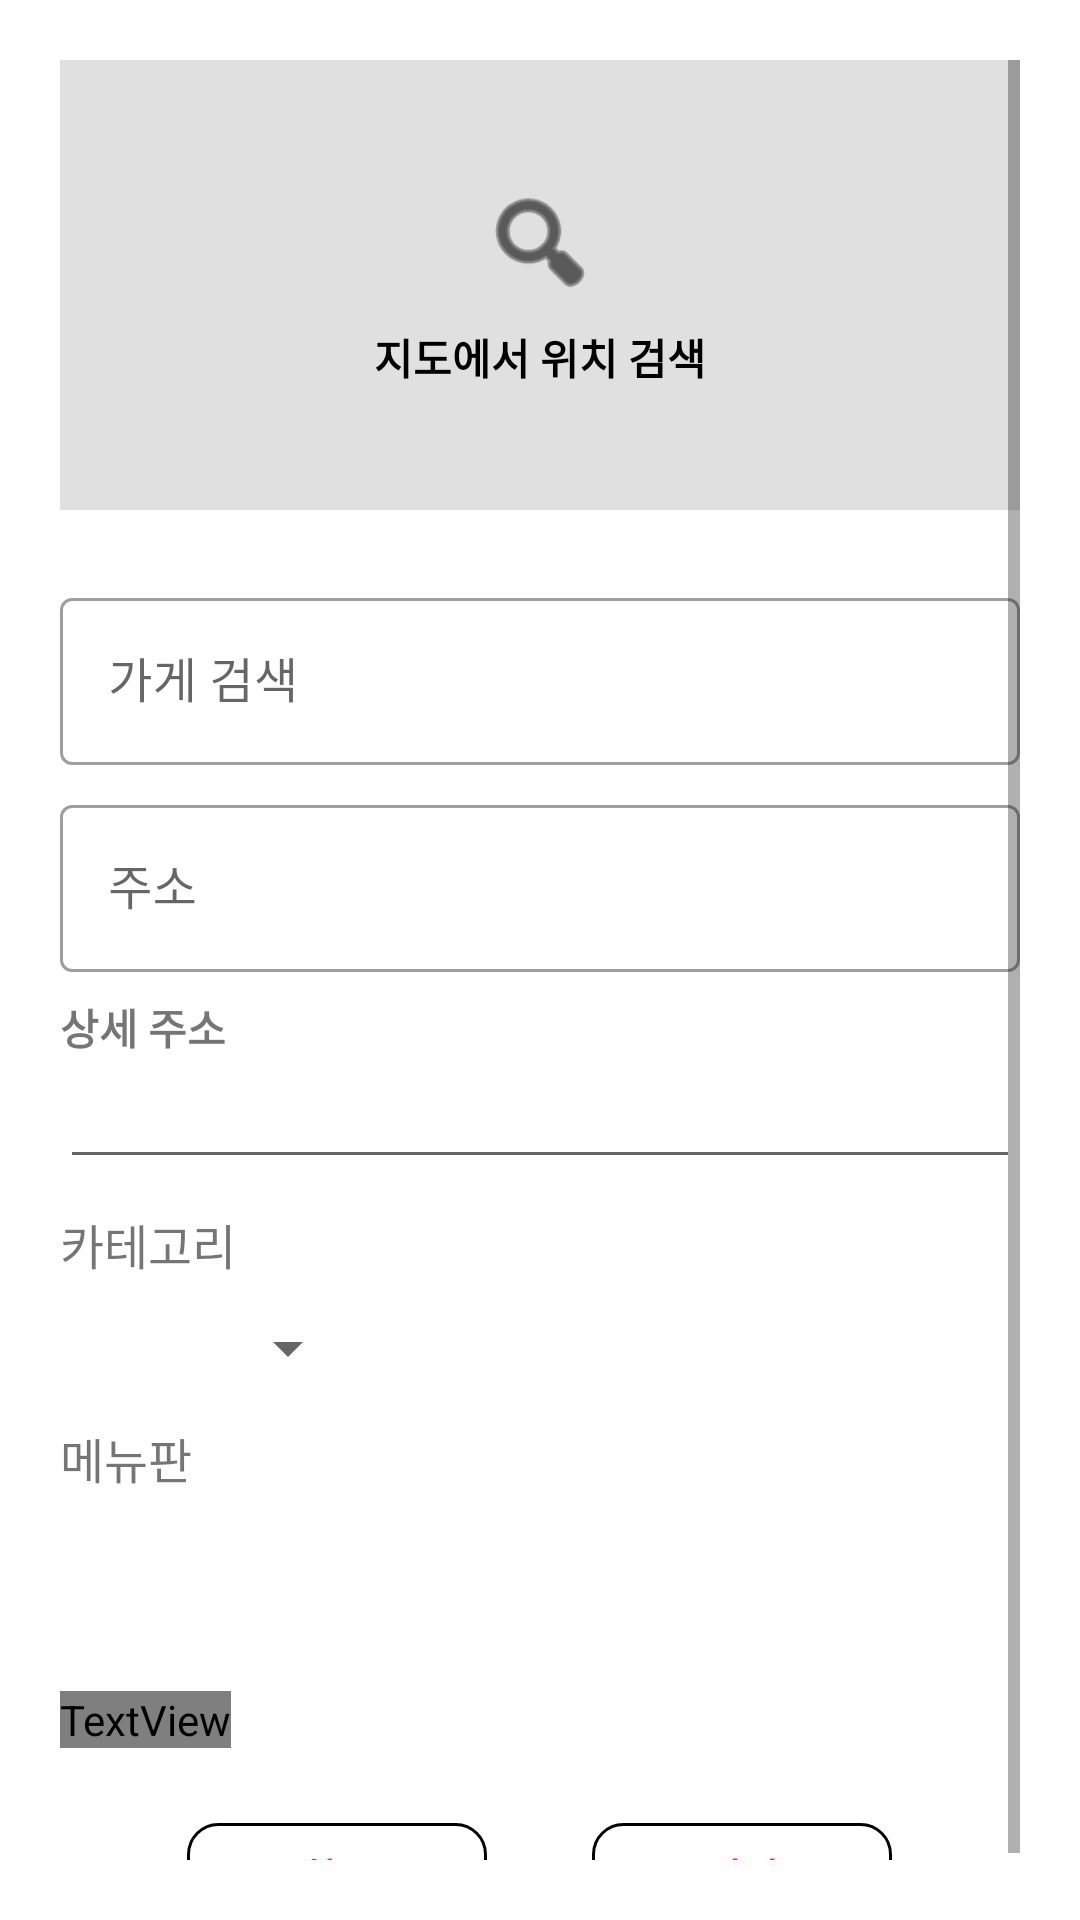

Named icons in this screenshot (1080x1920) and their centers, (x=x, y=y):
search: (x=540, y=242)
